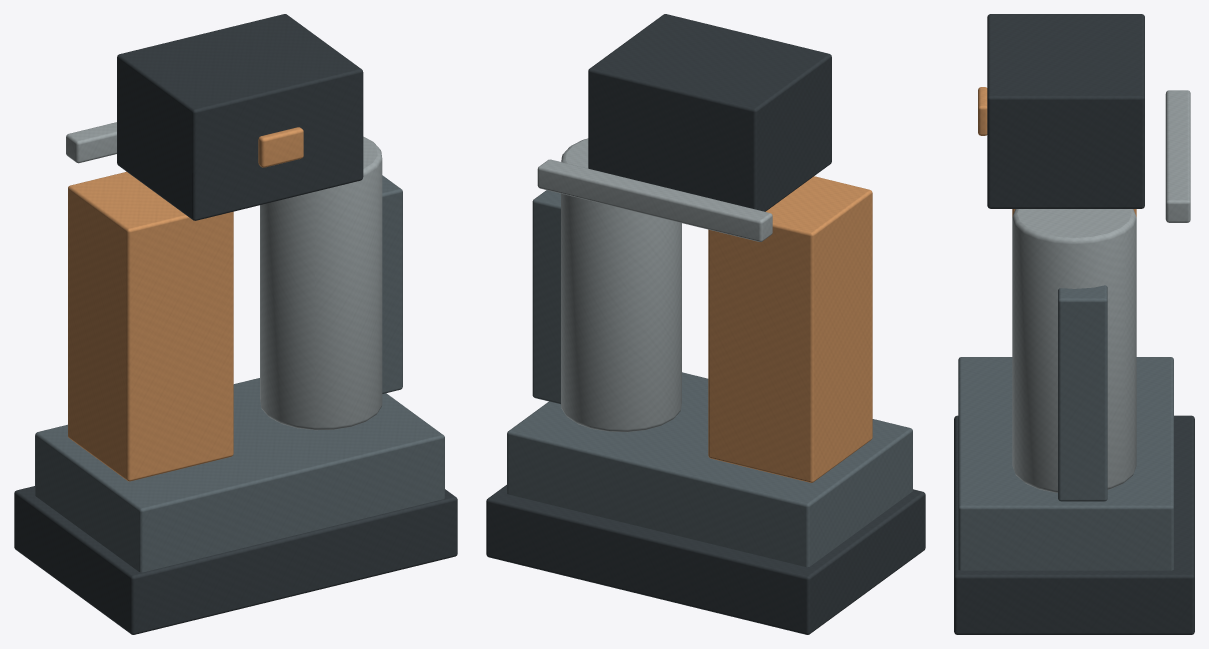
Rendered from SpillResponseCart.fbx.
3 renders of one model, left to right at view 1: azimuth 30°, elevation 25°; view 2: azimuth 150°, elevation 25°; view 3: azimuth 270°, elevation 25°, orthographic. The views are drawn at different scales.
Parts seen in each view (by area): view 1: SpillResponseCart_Mesh; view 2: SpillResponseCart_Mesh; view 3: SpillResponseCart_Mesh.
Boxes of the visible parts, x1,y1,x2,y2 form: SpillResponseCart_Mesh: [14, 14, 457, 634]; SpillResponseCart_Mesh: [486, 14, 925, 634]; SpillResponseCart_Mesh: [954, 14, 1194, 634].
Bounding box in the file's own units: 92 × 133 × 58.
4 materials, 4 textured.
